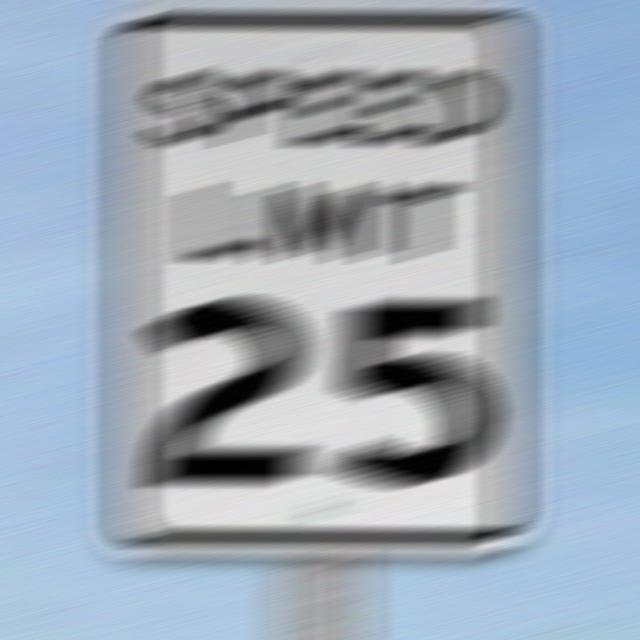speedLimit25: (100, 2, 532, 569)
